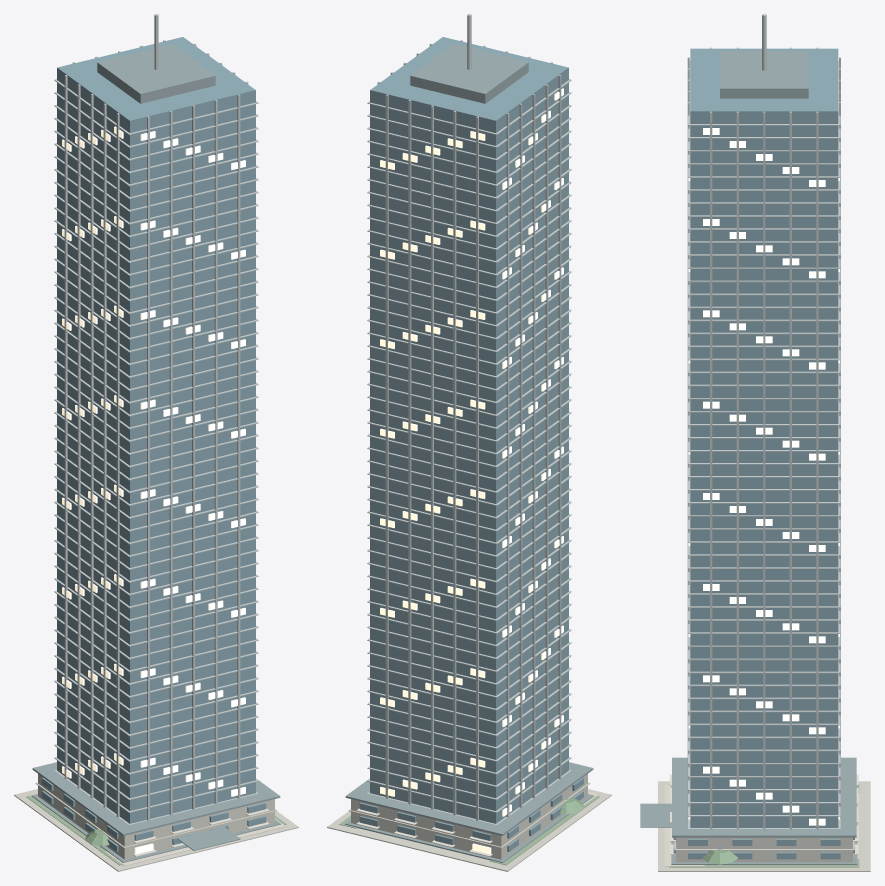
The model's file is remaster_skyscraper_5.glb.
The picture shows the model from 3 angles, left to right: view 1: azimuth 30°, elevation 25°; view 2: azimuth 150°, elevation 25°; view 3: azimuth 270°, elevation 25°; orthographic projection.
Parts seen in each view (by area): view 1: remaster_skyscraper_5 glass, remaster_skyscraper_5 metal, remaster_skyscraper_5 roof, remaster_skyscraper_5 warm, remaster_skyscraper_5 stone; view 2: remaster_skyscraper_5 glass, remaster_skyscraper_5 metal, remaster_skyscraper_5 roof, remaster_skyscraper_5 warm, remaster_skyscraper_5 stone, remaster_skyscraper_5 white, remaster_skyscraper_5 green; view 3: remaster_skyscraper_5 glass, remaster_skyscraper_5 metal, remaster_skyscraper_5 roof, remaster_skyscraper_5 stone, remaster_skyscraper_5 warm, remaster_skyscraper_5 green.
Part boxes in pixels (x1,y1,x2,y2): remaster_skyscraper_5 glass: (42,37,266,851); remaster_skyscraper_5 metal: (54,14,258,825); remaster_skyscraper_5 roof: (32,44,280,862); remaster_skyscraper_5 warm: (62,126,245,854); remaster_skyscraper_5 stone: (14,774,298,871); remaster_skyscraper_5 glass: (359,37,583,851); remaster_skyscraper_5 metal: (367,14,571,825); remaster_skyscraper_5 roof: (345,44,593,862); remaster_skyscraper_5 warm: (380,88,563,854); remaster_skyscraper_5 stone: (327,774,611,871); remaster_skyscraper_5 white: (356,808,492,856); remaster_skyscraper_5 green: (339,796,599,865); remaster_skyscraper_5 glass: (673,48,854,859); remaster_skyscraper_5 metal: (687,14,840,829); remaster_skyscraper_5 roof: (640,51,857,864); remaster_skyscraper_5 stone: (658,781,870,871); remaster_skyscraper_5 warm: (688,128,840,825); remaster_skyscraper_5 green: (669,784,859,867).
Size of the model in its own units: 38.58 by 162 by 41.6.
